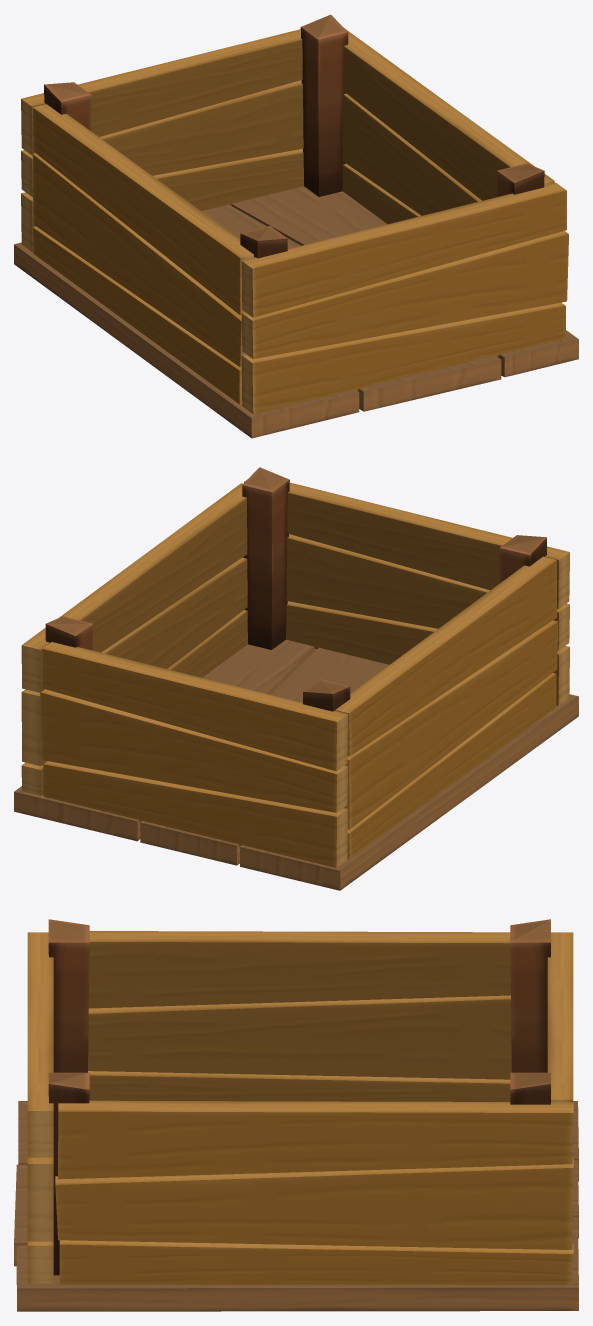
The model's file is SM_SmallCrate.fbx.
3 views of the same model, one above another, from view 1: azimuth 30°, elevation 25°; view 2: azimuth 150°, elevation 25°; view 3: azimuth 270°, elevation 25° (orthographic). The views are drawn at different scales.
Parts seen in each view (by area): view 1: Crate; view 2: Crate; view 3: Crate.
Boxes of the visible parts, x1,y1,x2,y2 form: Crate: (14, 14, 578, 438); Crate: (14, 467, 578, 890); Crate: (14, 919, 578, 1311).
Bounding box in the file's own units: 65.87 × 35.37 × 83.89.
